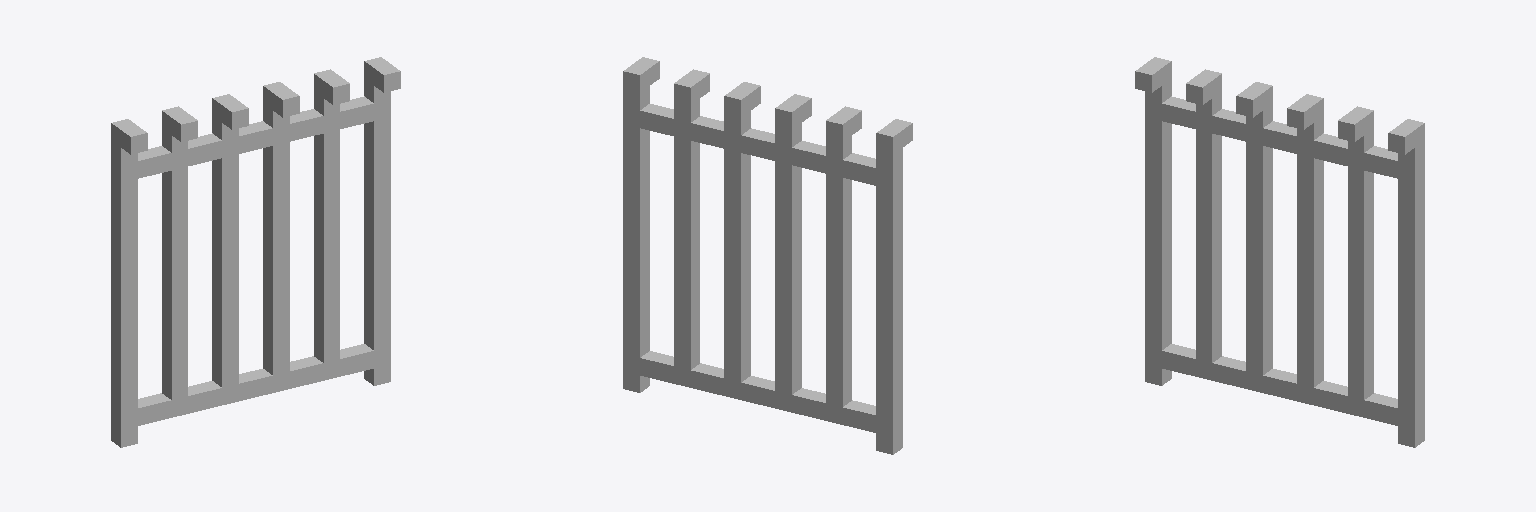
The model's file is obj_fence2.obj.
The picture shows the model from 3 angles: view 1: azimuth 30°, elevation 25°; view 2: azimuth 150°, elevation 25°; view 3: azimuth 330°, elevation 25°; orthographic projection.
Visible parts, largest first — view 1: object 1; view 2: object 1; view 3: object 1.
Boxes of the visible parts, x1,y1,x2,y2 form: object 1: [111, 57, 400, 447]; object 1: [623, 57, 912, 454]; object 1: [1135, 57, 1424, 447].
Size of the model in its own units: 1.6 by 1.8 by 0.2.